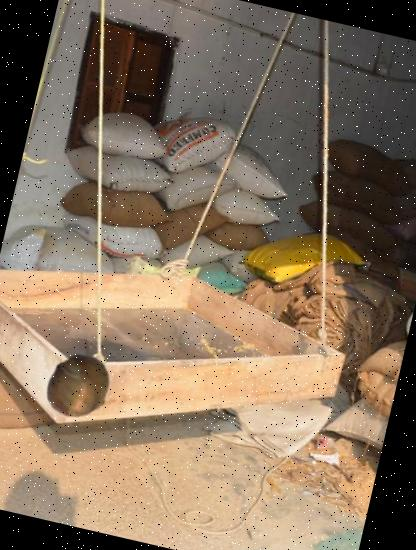Onion: (37, 345, 121, 428)
